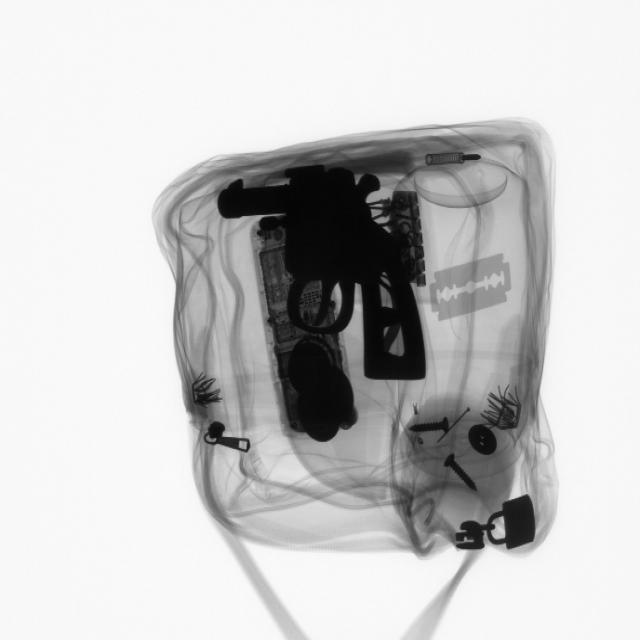BLADE: (424, 250, 518, 331)
GUN: (217, 167, 426, 388)
SCREW: (436, 446, 480, 500), (398, 410, 460, 444)
